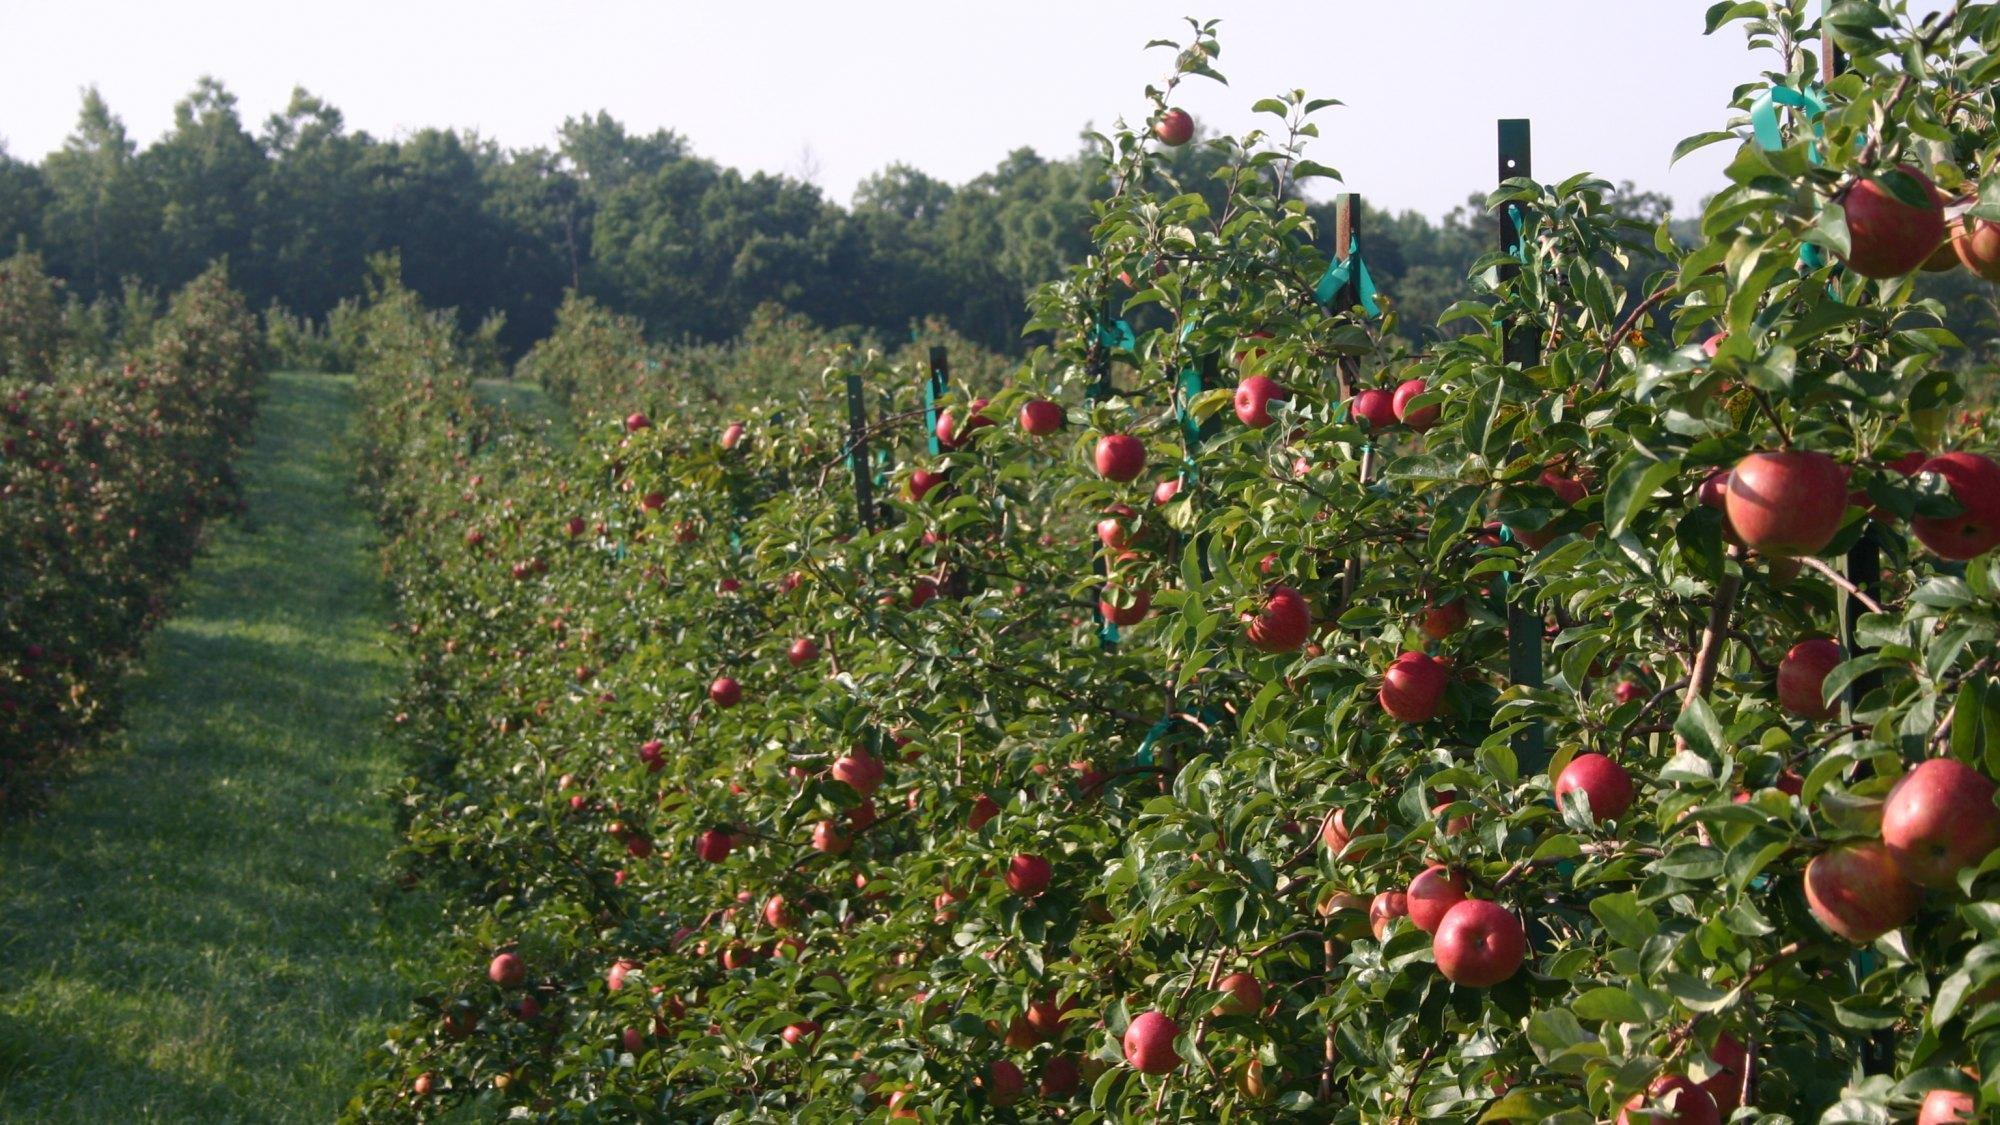apple: (1880, 760, 1997, 880), (1728, 449, 1845, 551), (1806, 842, 1920, 944), (1838, 165, 1941, 268), (1909, 453, 2000, 566), (1433, 901, 1527, 986), (1554, 754, 1635, 838), (1776, 641, 1848, 718), (1380, 652, 1449, 724), (1407, 865, 1470, 940), (1245, 587, 1312, 651), (1124, 1012, 1185, 1080), (831, 747, 886, 798), (1234, 376, 1284, 429), (1210, 973, 1264, 1022), (1953, 218, 1999, 275), (1393, 380, 1441, 429), (1368, 890, 1409, 945), (1093, 435, 1144, 479), (1007, 854, 1051, 900), (1353, 387, 1393, 430), (1043, 1055, 1081, 1099), (1152, 109, 1196, 147), (489, 955, 526, 990)
